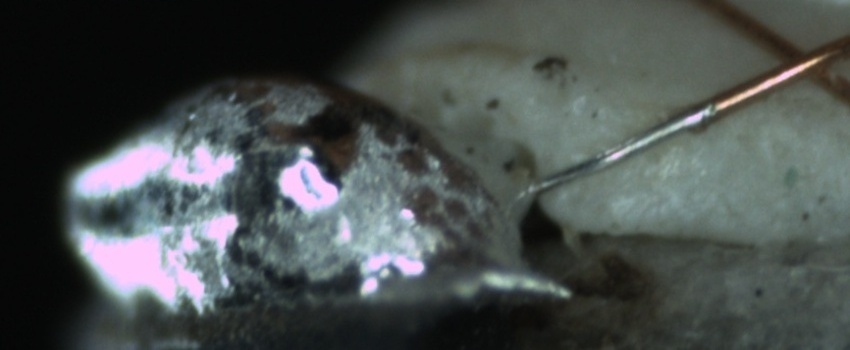CL: (753, 25, 844, 95)
TS: (526, 102, 712, 201)
